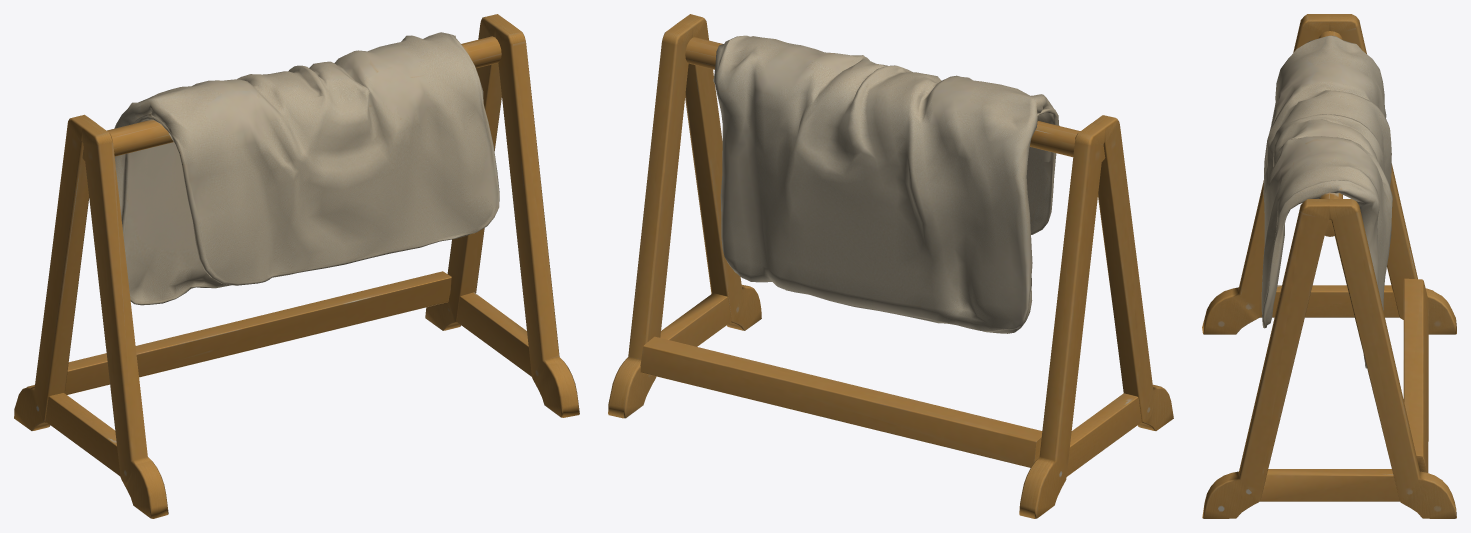
File: blanket_rack.glb
3 views of the same model, side by side, from view 1: azimuth 30°, elevation 25°; view 2: azimuth 150°, elevation 25°; view 3: azimuth 270°, elevation 25° (orthographic). The views are drawn at different scales.
Visible parts, largest first — view 1: blanket_rack; view 2: blanket_rack; view 3: blanket_rack.
Boxes of the visible parts, bbox=[...] form: blanket_rack: bbox=[14, 14, 579, 518]; blanket_rack: bbox=[608, 14, 1173, 518]; blanket_rack: bbox=[1202, 14, 1456, 518].
Bounding box in the file's own units: 1.4 × 1.1 × 0.784.
Materials: 1 (1 with a texture image).
